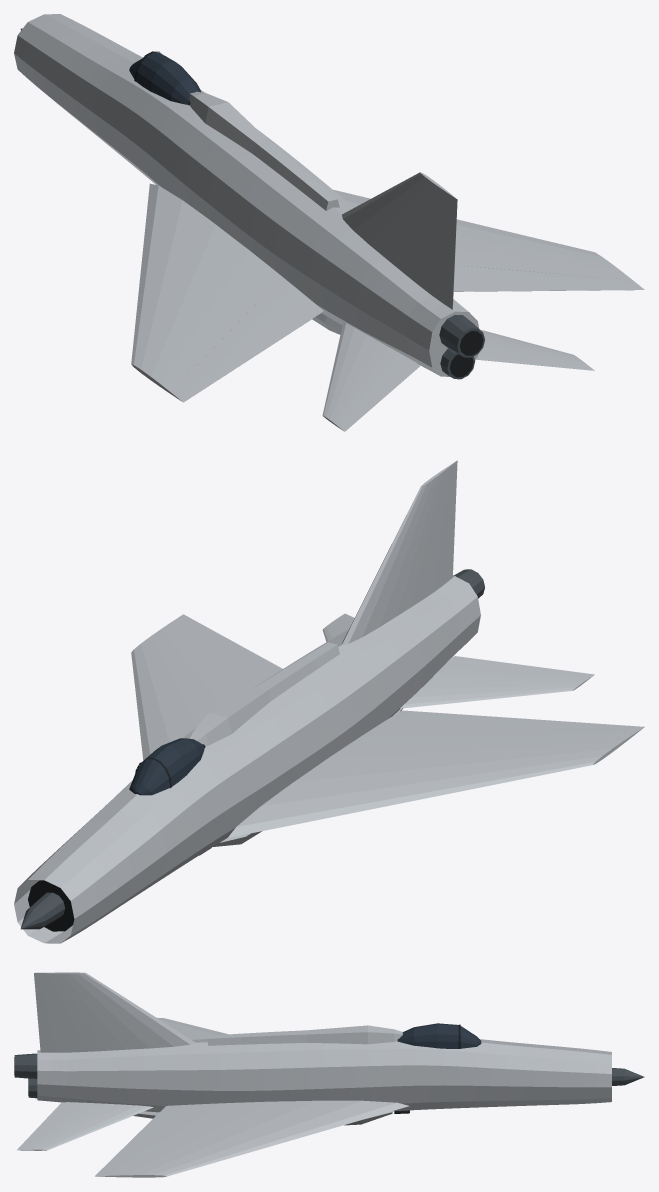
The model's file is lightning.glb.
3 renders of one model, top to bottom at view 1: azimuth 30°, elevation 25°; view 2: azimuth 150°, elevation 25°; view 3: azimuth 270°, elevation 25°, orthographic. The views are drawn at different scales.
Visible parts, largest first — view 1: Fuselage, Wing L, Wing R, Vertical Fin, Dorsal Fairing, Rudder, Stabilizer L, Flap L, Cockpit Glass, Elevator L, Flap R, Exhaust Nozzles (+5 smaller); view 2: Fuselage, Wing L, Wing R, Vertical Fin, Stabilizer L, Dorsal Fairing, Rudder, Flap L, Cockpit Glass, Elevator L, Flap R, Aileron L (+3 smaller); view 3: Fuselage, Wing R, Vertical Fin, Rudder, Dorsal Fairing, Stabilizer R, Cockpit Glass, Flap R, Elevator R, Exhaust Nozzles, Aileron R, Wing L (+2 smaller).
Boxes of the visible parts, box(x1,y1,x2,y2) form: Fuselage: box(14, 14, 479, 376); Wing L: box(131, 183, 323, 402); Wing R: box(333, 189, 644, 290); Vertical Fin: box(342, 172, 444, 275); Dorsal Fairing: box(189, 91, 339, 210); Rudder: box(406, 189, 457, 309); Stabilizer L: box(322, 322, 391, 426); Flap L: box(221, 283, 315, 361); Cockpit Glass: box(129, 52, 200, 104); Elevator L: box(337, 349, 419, 431); Flap R: box(453, 265, 534, 291); Exhaust Nozzles: box(439, 315, 484, 379); Fuselage: box(14, 576, 480, 943); Wing L: box(228, 710, 644, 837); Wing R: box(131, 614, 249, 760); Vertical Fin: box(342, 470, 444, 644); Stabilizer L: box(400, 672, 587, 708); Dorsal Fairing: box(190, 642, 339, 746); Rudder: box(414, 460, 457, 605); Flap L: box(377, 711, 534, 736); Cockpit Glass: box(129, 738, 204, 795); Elevator L: box(437, 656, 594, 680); Flap R: box(221, 649, 282, 689); Aileron L: box(529, 720, 632, 735); Fuselage: box(37, 1039, 611, 1112); Wing R: box(95, 1100, 409, 1177); Vertical Fin: box(52, 972, 195, 1051); Rudder: box(34, 972, 99, 1052); Dorsal Fairing: box(208, 1025, 402, 1045); Stabilizer R: box(27, 1103, 153, 1150); Cockpit Glass: box(399, 1023, 481, 1048); Flap R: box(127, 1107, 217, 1144); Elevator R: box(17, 1102, 93, 1150); Exhaust Nozzles: box(14, 1053, 37, 1098); Aileron R: box(98, 1148, 153, 1172); Wing L: box(157, 1017, 227, 1039).
Size of the model in its own units: 10.7 by 4.76 by 18.12.
